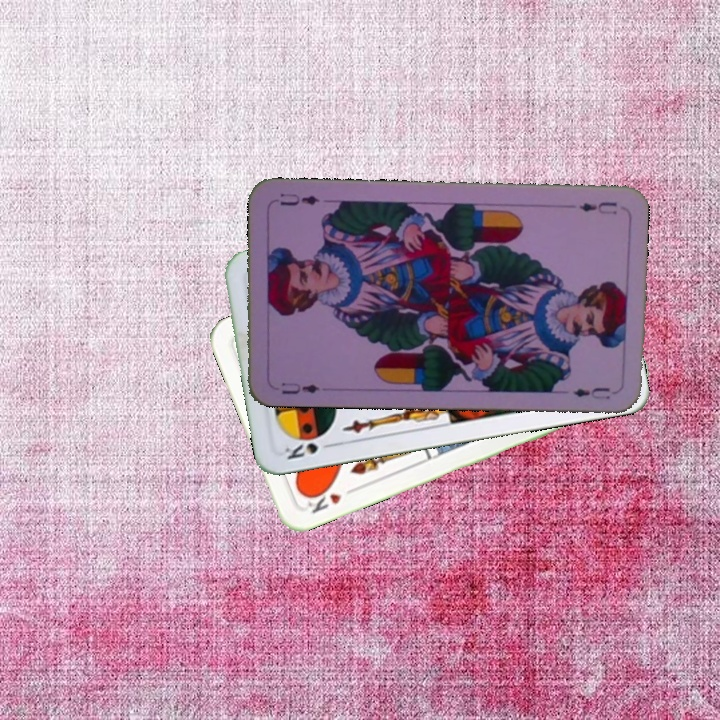EU: (277, 378, 322, 397), (575, 198, 619, 217)
HK: (300, 483, 345, 516)
SK: (280, 439, 338, 462)
